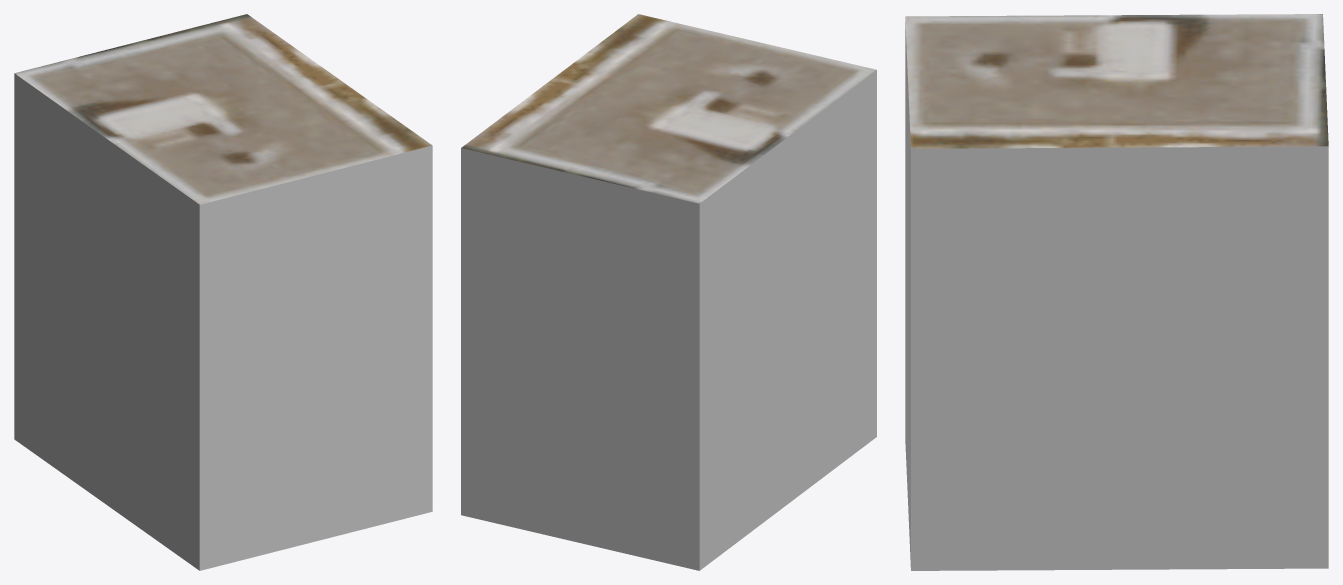
File: DEBW_0010007Tx9p.gltf
3 renders of one model, left to right at view 1: azimuth 30°, elevation 25°; view 2: azimuth 150°, elevation 25°; view 3: azimuth 270°, elevation 25°, orthographic. The views are drawn at different scales.
Visible parts, largest first — view 1: Z_UP; view 2: Z_UP; view 3: Z_UP.
Part boxes in pixels (<box>): Z_UP: <box>14,14,432,570</box>; Z_UP: <box>461,14,876,570</box>; Z_UP: <box>905,14,1328,570</box>.
Size of the model in its own units: 12.25 by 17.89 by 16.26.
Materials: 2 (1 with a texture image).
